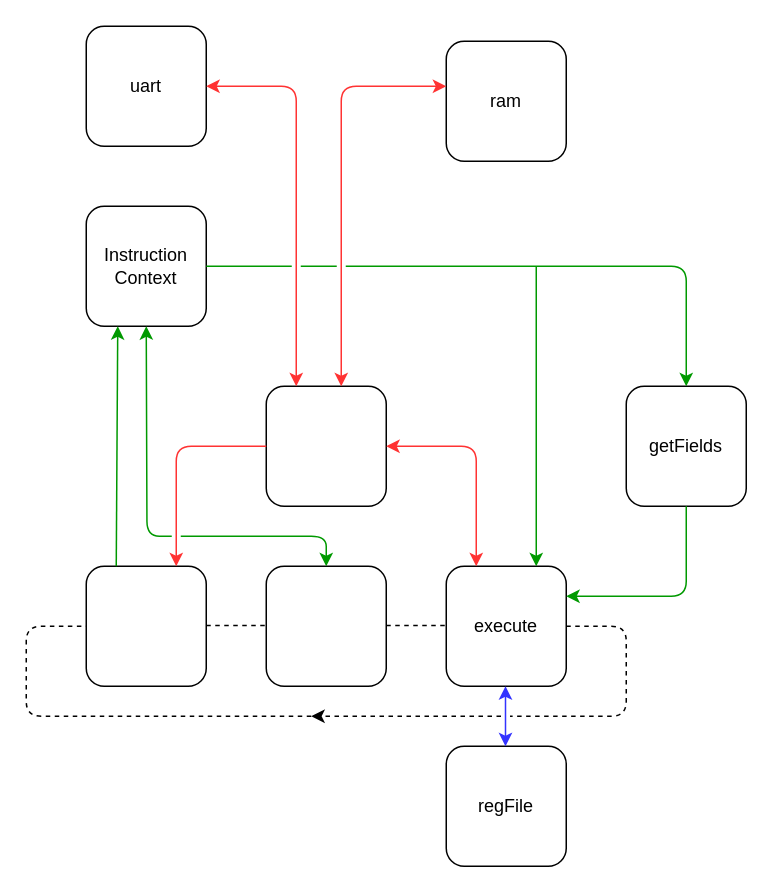
The diagram is 773 pixels wide and 893 high, and some of its shapes have lost their labels. Here are the shapes that lost their labels. From the top down, the centre of each, then its label:
At point 325,445: "Arbiter".
At point 145,625: "fetch".
At point 325,625: "getOp".
